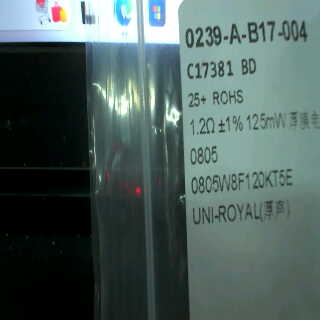1.2R: (188, 115, 216, 167)
